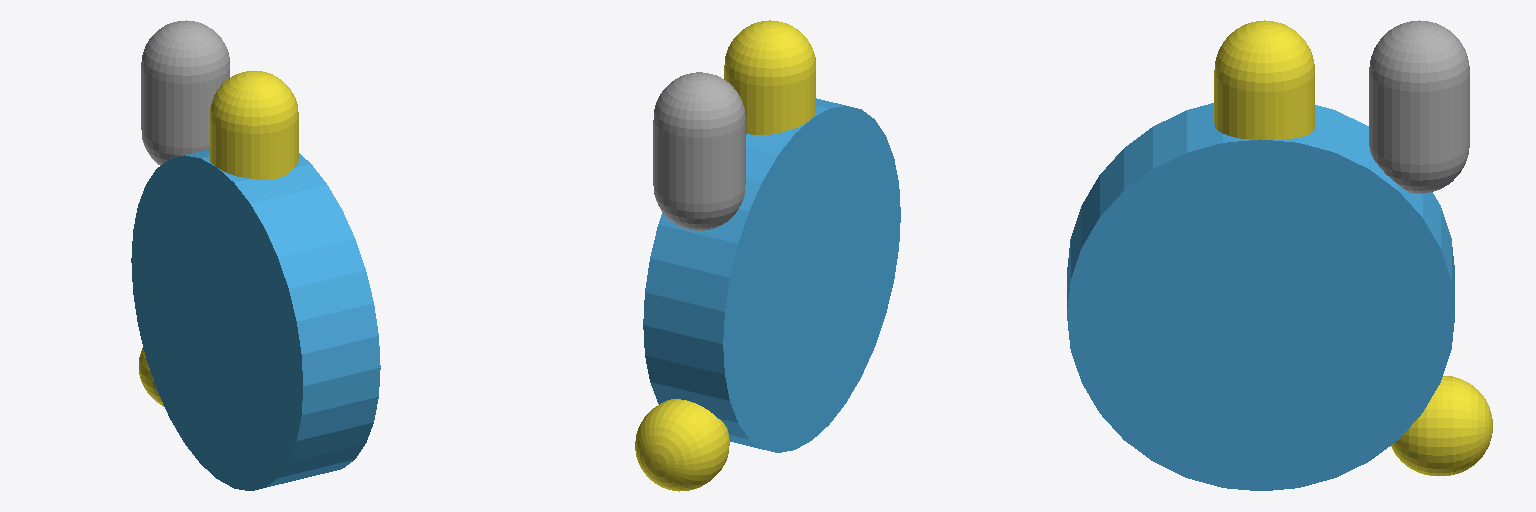
URDF robot description (DexterousHand):
<?xml version="1.0"?>
<robot name="DexterousHand">


    <link name="world"/>
    <joint name="world_to_palm" type="fixed">
        <parent link="world"/>
        <child link="palm"/>
        <origin xyz="0 0 0" rpy="0 0 0"/>
    </joint>
    <link name="palm">
        <inertial>
            <origin xyz="0 0 0.057" rpy="0 0 0"/>
            <mass value="0.30212892864"/>
            <inertia ixx="0.00049080844457568" ixy="0.0" ixz="0.0" iyy="0.00026746366246427523" iyz="0.0" izz="0.00026746366246427523"/>
        </inertial>
        <visual>
            <origin xyz="0 0 0.057" rpy="1.5708 0 1.5708"/>
            <geometry>
                <cylinder radius="0.057" length="0.0296"/>
            </geometry>
            <material name="default"/>
        </visual>
        <collision>
            <origin xyz="0 0 0.057" rpy="1.5708 0 1.5708"/>
            <geometry>
                <cylinder radius="0.057" length="0.0296"/>
            </geometry>
        </collision>
    </link>

    
    <joint name="thumb_joint1" type="revolute">
        <parent link="palm"/>
        <child link="thumb_base"/>
        <origin xyz="0.0029 0.0368 0.0157" rpy="-1.5708 -1.5708 0.0"/>
        <axis xyz="-1 0 0"/>
        <limit lower="-0.349" upper="2.094" effort="1.0" velocity="1.0"/>
    </joint>

    <link name="thumb_base"></link>

    <joint name="thumb_joint2" type="revolute">
        <parent link="thumb_base"/>
        <child link="thumb_proximal"/>
        <origin xyz="0.0 0.0 0.0" rpy="0.0 0.0 0.0"/>
        <axis xyz="0 0 1"/>
        <limit lower="-0.47" upper="2.443" effort="1.0" velocity="1.0"/>
    </joint>

    <link name="thumb_proximal">
        <inertial>
            <origin xyz="0 0 0.01565" rpy="0 0 0"/>
            <mass value="0.021538658803200002"/>
            <inertia ixx="2.9378910096388167e-06" ixy="0.0" ixz="0.0" 
            iyy="2.9378910096388167e-06" iyz="0.0" izz="2.358913912126464e-06"/>
        </inertial>
        <visual>
            <origin xyz="0 0 0.01565" rpy="0 0 0"/>
            <geometry>
                <cylinder radius="0.0148" length="0.0017000000000000001"/>
            </geometry>
            <material name="default"/>
        </visual>
        <visual>
            <origin xyz="0 0 0.0148" rpy="0 0 0"/>
            <geometry>
                <sphere radius="0.0148"/>
            </geometry>
            <material name="default"/>
        </visual>
        <visual>
            <origin xyz="0 0 0.0165" rpy="0 0 0"/>
            <geometry>
                <sphere radius="0.0148"/>
            </geometry>
            <material name="default"/>
        </visual>
        <collision>
            <origin xyz="0 0 0.01565" rpy="0 0 0"/>
            <geometry>
                <cylinder radius="0.0148" length="0.0017000000000000001"/>
            </geometry>
        </collision>
        <collision>
            <origin xyz="0 0 0.0148" rpy="0 0 0"/>
            <geometry>
                <sphere radius="0.0148"/>
            </geometry>
        </collision>
        <collision>
            <origin xyz="0 0 0.0165" rpy="0 0 0"/>
            <geometry>
                <sphere radius="0.0148"/>
            </geometry>
        </collision>
    </link>

    <joint name="thumb_joint3" type="revolute">
        <parent link="thumb_proximal"/>
        <child link="thumb_knuckle"/>
        <origin xyz="0.0 0.0 0.0" rpy="0.0 0.0 0.0"/>
        <axis xyz="1 0 0"/>
        <limit lower="0.0" upper="0.0" effort="1.0" velocity="1.0"/>
    </joint>

    <link name="thumb_knuckle"></link>

    <joint name="thumb_joint4" type="revolute">
        <parent link="thumb_knuckle"/>
        <child link="thumb_middle"/>
        <origin xyz="0 0 0" rpy="0 0 0"/> 
        <axis xyz="0 1 0"/>
        <limit lower="0.0" upper="0.0" effort="1.0" velocity="1.0"/>
    </joint>

    <link name="thumb_middle">
    </link>

    <joint name="thumb_joint5" type="revolute">
        <parent link="thumb_middle"/>
        <child link="thumb_distal"/>
        <origin xyz="0 0 0" rpy="0 0 0"/> 
        <axis xyz="0 1 0"/>
        <limit lower="0.0" upper="0.0" effort="1.0" velocity="1.0"/>
    </joint>

    <link name="thumb_distal">
    </link>

    
    <joint name="index_joint1" type="revolute">
        <parent link="palm"/>
        <child link="index_proximal"/>
        <origin xyz="0.0 0.0465 0.091" rpy="0.0 0.0 0.0"/>
        <axis xyz="0 1 0"/>
        <limit lower="-0.314" upper="2.23" effort="1.0" velocity="1.0"/>
    </joint>

    <link name="index_proximal">
        <inertial>
            <origin xyz="0 0 0.02655" rpy="0 0 0"/>
            <mass value="0.036540024998400006"/>
            <inertia ixx="1.058665009272394e-05" ixy="0.0" ixz="0.0" 
            iyy="1.058665009272394e-05" iyz="0.0" izz="4.001863537824769e-06"/>
        </inertial>
        <visual>
            <origin xyz="0 0 0.02655" rpy="0 0 0"/>
            <geometry>
                <cylinder radius="0.0148" length="0.0235"/>
            </geometry>
            <material name="default"/>
        </visual>
        <visual>
            <origin xyz="0 0 0.0148" rpy="0 0 0"/>
            <geometry>
                <sphere radius="0.0148"/>
            </geometry>
            <material name="default"/>
        </visual>
        <visual>
            <origin xyz="0 0 0.0383" rpy="0 0 0"/>
            <geometry>
                <sphere radius="0.0148"/>
            </geometry>
            <material name="default"/>
        </visual>
        <collision>
            <origin xyz="0 0 0.02655" rpy="0 0 0"/>
            <geometry>
                <cylinder radius="0.0148" length="0.0235"/>
            </geometry>
        </collision>
        <collision>
            <origin xyz="0 0 0.0148" rpy="0 0 0"/>
            <geometry>
                <sphere radius="0.0148"/>
            </geometry>
        </collision>
        <collision>
            <origin xyz="0 0 0.0383" rpy="0 0 0"/>
            <geometry>
                <sphere radius="0.0148"/>
            </geometry>
        </collision>
    </link>

    <joint name="index_joint2" type="revolute">
        <parent link="index_proximal"/>
        <child link="index_dummy"/>
        <origin xyz="0.0 0.0 0.038" rpy="0.0 0.0 0.0"/>
        <axis xyz="0 1 0"/>
        <limit lower="0.0" upper="0.0" effort="1.0" velocity="1.0"/>
    </joint>

    <link name="index_dummy"></link>

    <joint name="index_joint3" type="revolute">
        <parent link="index_dummy"/>
        <child link="index_middle"/>
        <origin xyz="0 0 0.015100000000000002" rpy="0 0 0"/>
        <axis xyz="0 1 0"/>
        <limit lower="0.0" upper="0.0" effort="1.0" velocity="1.0"/>
    </joint>

    <link name="index_middle">
    </link>

    <joint name="index_joint4" type="revolute">
        <parent link="index_middle"/>
        <child link="index_distal"/>
        <origin xyz="0 0 0" rpy="0 0 0"/> 
        <axis xyz="0 1 0"/>
        <limit lower="0.0" upper="0.0" effort="1.0" velocity="1.0"/>
    </joint>

    <link name="index_distal">
    </link>

    
    <joint name="middle_joint1" type="revolute">
        <parent link="palm"/>
        <child link="middle_proximal"/>
        <origin xyz="0.0 0.0011 0.091" rpy="0.0 0.0 0.0"/>
        <axis xyz="0 1 0"/>
        <limit lower="-0.314" upper="2.23" effort="1.0" velocity="1.0"/>
    </joint>

    <link name="middle_proximal">
        <inertial>
            <origin xyz="0 0 0.02655" rpy="0 0 0"/>
            <mass value="0.036540024998400006"/>
            <inertia ixx="1.058665009272394e-05" ixy="0.0" ixz="0.0" 
            iyy="1.058665009272394e-05" iyz="0.0" izz="4.001863537824769e-06"/>
        </inertial>
        <visual>
            <origin xyz="0 0 0.02655" rpy="0 0 0"/>
            <geometry>
                <cylinder radius="0.0148" length="0.0235"/>
            </geometry>
            <material name="default"/>
        </visual>
        <visual>
            <origin xyz="0 0 0.0148" rpy="0 0 0"/>
            <geometry>
                <sphere radius="0.0148"/>
            </geometry>
            <material name="default"/>
        </visual>
        <visual>
            <origin xyz="0 0 0.0383" rpy="0 0 0"/>
            <geometry>
                <sphere radius="0.0148"/>
            </geometry>
            <material name="default"/>
        </visual>
        <collision>
            <origin xyz="0 0 0.02655" rpy="0 0 0"/>
            <geometry>
                <cylinder radius="0.0148" length="0.0235"/>
            </geometry>
        </collision>
        <collision>
            <origin xyz="0 0 0.0148" rpy="0 0 0"/>
            <geometry>
                <sphere radius="0.0148"/>
            </geometry>
        </collision>
        <collision>
            <origin xyz="0 0 0.0383" rpy="0 0 0"/>
            <geometry>
                <sphere radius="0.0148"/>
            </geometry>
        </collision>
    </link>

    <joint name="middle_joint2" type="revolute">
        <parent link="middle_proximal"/>
        <child link="middle_dummy"/>
        <origin xyz="0.0 0.0 0.038" rpy="0.0 0.0 0.0"/>
        <axis xyz="0 1 0"/>
        <limit lower="0.0" upper="0.0" effort="1.0" velocity="1.0"/>
    </joint>

    <link name="middle_dummy"></link>

    <joint name="middle_joint3" type="revolute">
        <parent link="middle_dummy"/>
        <child link="middle_middle"/>
        <origin xyz="0 0 0.015100000000000002" rpy="0 0 0"/>
        <axis xyz="0 1 0"/>
        <limit lower="0.0" upper="0.0" effort="1.0" velocity="1.0"/>
    </joint>

    <link name="middle_middle">
    </link>

    <joint name="middle_joint4" type="revolute">
        <parent link="middle_middle"/>
        <child link="middle_distal"/>
        <origin xyz="0 0 0" rpy="0 0 0"/> 
        <axis xyz="0 1 0"/>
        <limit lower="0.0" upper="0.0" effort="1.0" velocity="1.0"/>
    </joint>

    <link name="middle_distal">
    </link>

    
    <joint name="ring_joint1" type="revolute">
        <parent link="palm"/>
        <child link="ring_proximal"/>
        <origin xyz="0.0 0.0 0.0" rpy="0.0 0.0 0.0"/>
        <axis xyz="1 0 0"/>
        <limit lower="0.0" upper="0.0" effort="1.0" velocity="1.0"/>
    </joint>

    <link name="ring_proximal">
    </link>

    <joint name="ring_joint2" type="revolute">
        <parent link="ring_proximal"/>
        <child link="ring_dummy"/>
        <origin xyz="0.0 0.0 0.0" rpy="0.0 0.0 0.0"/>
        <axis xyz="0 1 0"/>
        <limit lower="0.0" upper="0.0" effort="1.0" velocity="1.0"/>
    </joint>

    <link name="ring_dummy"></link>

    <joint name="ring_joint3" type="revolute">
        <parent link="ring_dummy"/>
        <child link="ring_middle"/>
        <origin xyz="0 0 0" rpy="0 0 0"/>
        <axis xyz="0 1 0"/>
        <limit lower="0.0" upper="0.0" effort="1.0" velocity="1.0"/>
    </joint>

    <link name="ring_middle">
    </link>

    <joint name="ring_joint4" type="revolute">
        <parent link="ring_middle"/>
        <child link="ring_distal"/>
        <origin xyz="0 0 0" rpy="0 0 0"/> 
        <axis xyz="0 1 0"/>
        <limit lower="0.0" upper="0.0" effort="1.0" velocity="1.0"/>
    </joint>

    <link name="ring_distal">
    </link>

    
    <joint name="little_joint0" type="revolute">
        <parent link="palm"/>
        <child link="little_base"/>
        <origin xyz="0.0 0.0 0.0" rpy="0.0 0.0 0.0"/>
        <axis xyz="0 1 0"/>
        <limit lower="0.0" upper="0.0" effort="1.0" velocity="1.0"/>
    </joint>

    <link name="little_base"></link>

    <joint name="little_joint1" type="revolute">
        <parent link="little_base"/>
        <child link="little_proximal"/>
        <origin xyz="0.0 0.0 0.0" rpy="-0.0 -0.0 -0.0"/>
        <axis xyz="1 0 0"/>
        <limit lower="0.0" upper="0.0" effort="1.0" velocity="1.0"/>
    </joint>

    <link name="little_proximal">
    </link>

    <joint name="little_joint2" type="revolute">
        <parent link="little_proximal"/>
        <child link="little_dummy"/>
        <origin xyz="0.0 0.0 0.0" rpy="0.0 0.0 0.0"/>
        <axis xyz="0 1 0"/>
        <limit lower="0.0" upper="0.0" effort="1.0" velocity="1.0"/>
    </joint>

    <link name="little_dummy"></link>

    <joint name="little_joint3" type="revolute">
        <parent link="little_dummy"/>
        <child link="little_middle"/>
        <origin xyz="0 0 0" rpy="0 0 0"/>
        <axis xyz="0 1 0"/>
        <limit lower="0.0" upper="0.0" effort="1.0" velocity="1.0"/>
    </joint>

    <link name="little_middle">
    </link>

    <joint name="little_joint4" type="revolute">
        <parent link="little_middle"/>
        <child link="little_distal"/>
        <origin xyz="0 0 0" rpy="0 0 0"/>
        <axis xyz="0 1 0"/>
        <limit lower="0.0" upper="0.0" effort="1.0" velocity="1.0"/>
    </joint>

    <link name="little_distal">
    </link>

</robot>

--- Render facts (derived) ---
3 views of the same robot in one strip: view 1: azimuth 30°, elevation 25°; view 2: azimuth 150°, elevation 25°; view 3: azimuth 270°, elevation 25° (orthographic).
Robot: DexterousHand — 24 links, 23 joints (22 revolute, 1 fixed); root link world; default pose: all joints at 0.
Visible links, largest first — view 1: palm, index_proximal, middle_proximal; view 2: palm, index_proximal, middle_proximal, thumb_proximal; view 3: palm, index_proximal, middle_proximal, thumb_proximal.
Boxes of the visible links, box(x1,y1,x2,y2) form: palm: box(131, 149, 380, 490); index_proximal: box(141, 20, 229, 165); middle_proximal: box(210, 71, 298, 179); palm: box(643, 98, 900, 452); index_proximal: box(653, 72, 745, 230); middle_proximal: box(724, 20, 815, 134); thumb_proximal: box(635, 399, 729, 491); palm: box(1067, 103, 1454, 490); index_proximal: box(1369, 20, 1469, 193); middle_proximal: box(1214, 20, 1314, 139); thumb_proximal: box(1391, 376, 1492, 475).
Bounding box of the posed robot: 0.0325 × 0.1251 × 0.1441 m (x, y, z).
Geometry: primitives only (box / cylinder / sphere), no mesh files.
